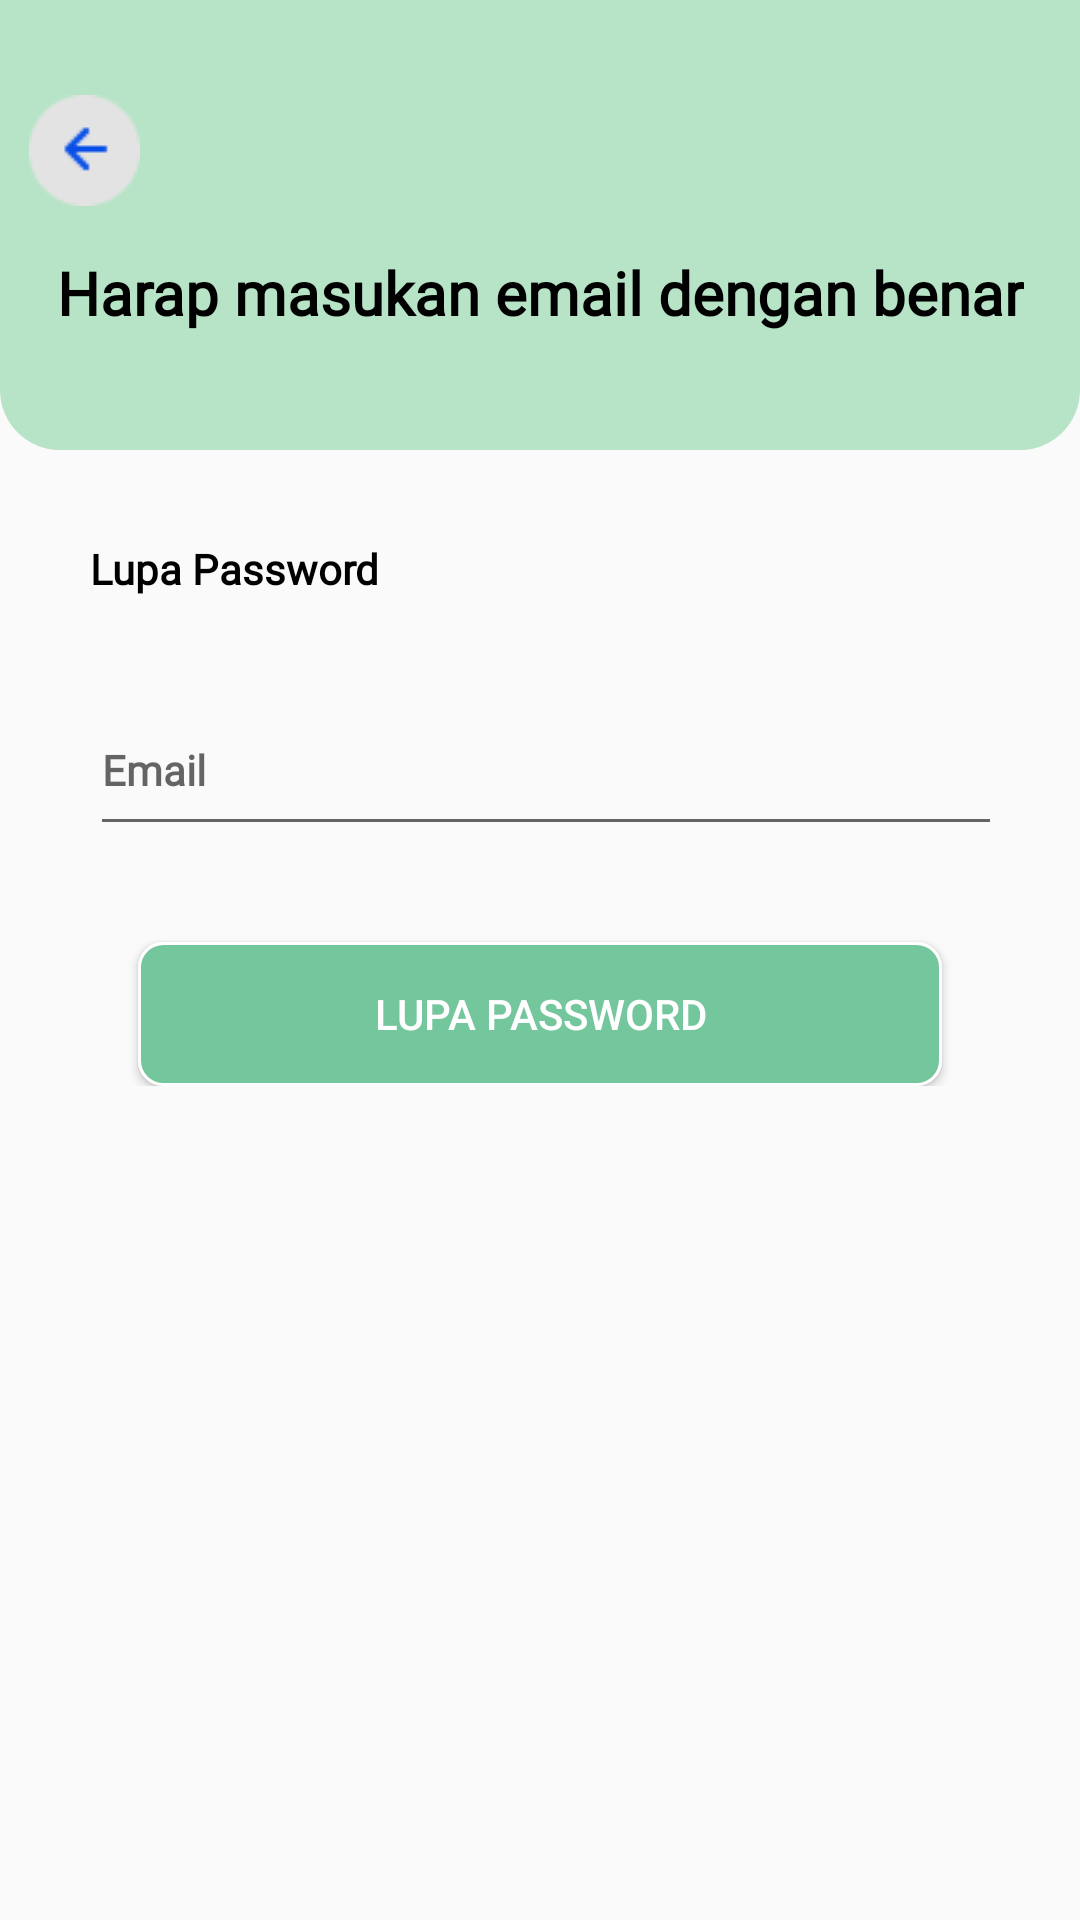

Icon click points for this 1080 × 1920 phone screenshot, format (x,y):
kembali: (84,150)
